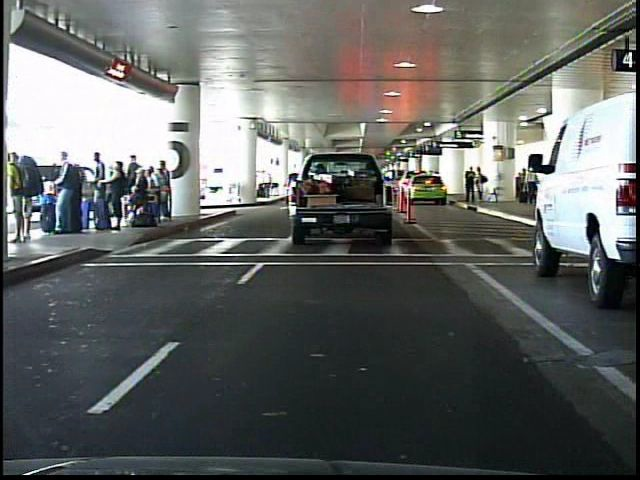person: (474, 165, 488, 203), (464, 165, 476, 203)
